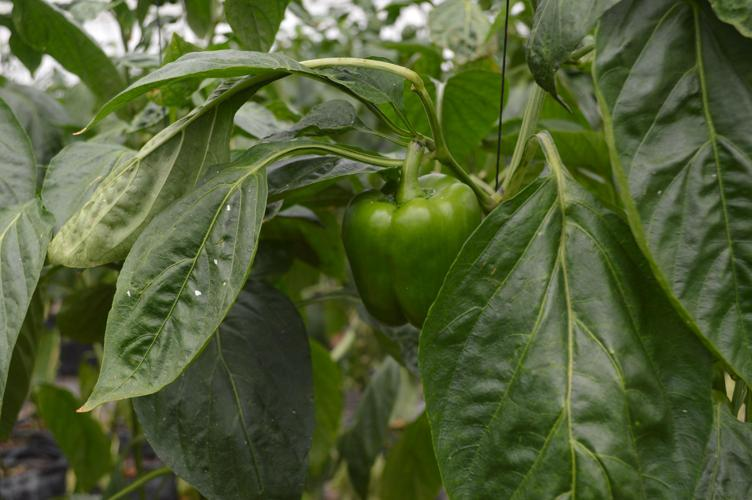BellPepper: (336, 176, 476, 334)
